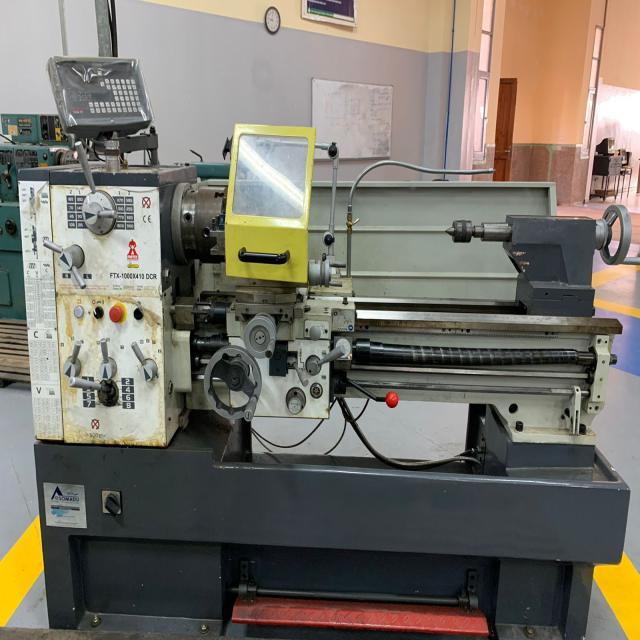tour parallele: (15, 58, 632, 640)
